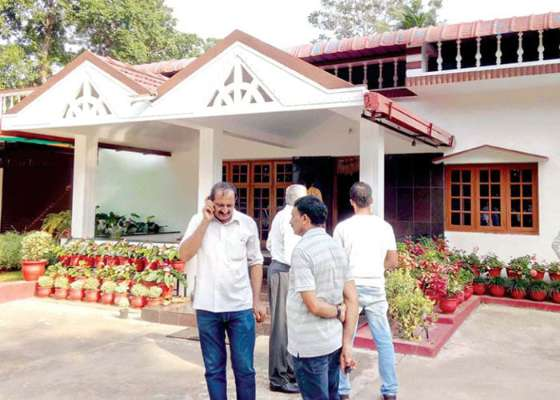person: (184, 178, 260, 400), (335, 181, 402, 397), (288, 197, 345, 397), (269, 183, 306, 386)
